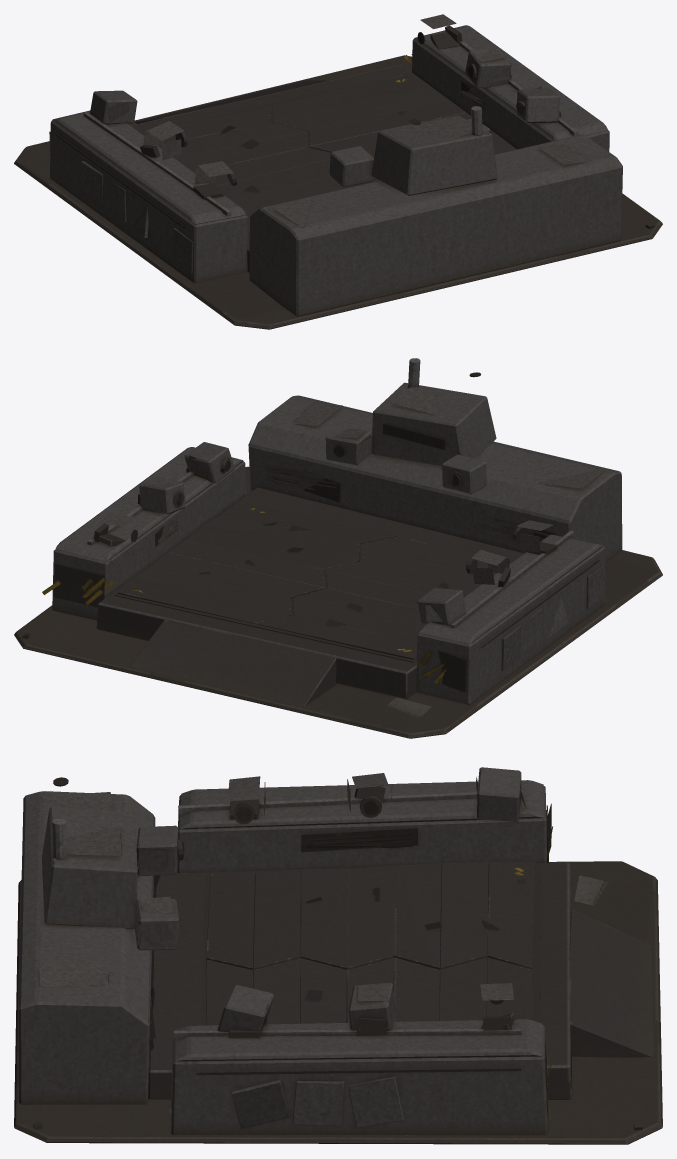
The model's file is chs_gantry_wreck.fbx.
3 views of the same model, one above another, from view 1: azimuth 30°, elevation 25°; view 2: azimuth 150°, elevation 25°; view 3: azimuth 270°, elevation 25° (orthographic). The views are drawn at different scales.
Visible parts, largest first — view 1: base_bar; view 2: base_bar; view 3: base_bar.
Boxes of the visible parts, box(x1,y1,x2,y2) form: base_bar: box(14, 14, 662, 329); base_bar: box(14, 358, 662, 738); base_bar: box(14, 767, 662, 1144).
Bounding box in the file's own units: 5607 × 2180 × 5592.
2 materials, 2 textured.
